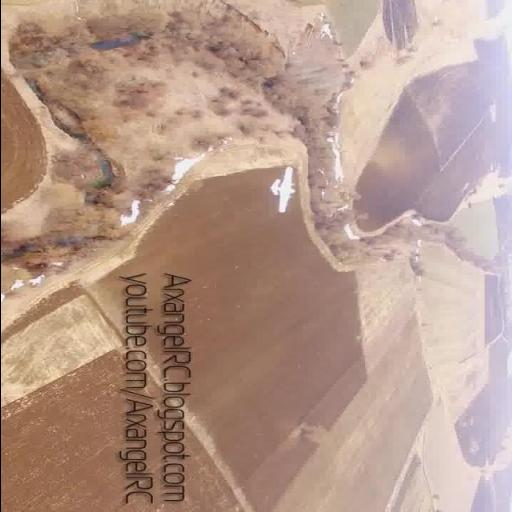uav: (255, 156, 311, 222)
